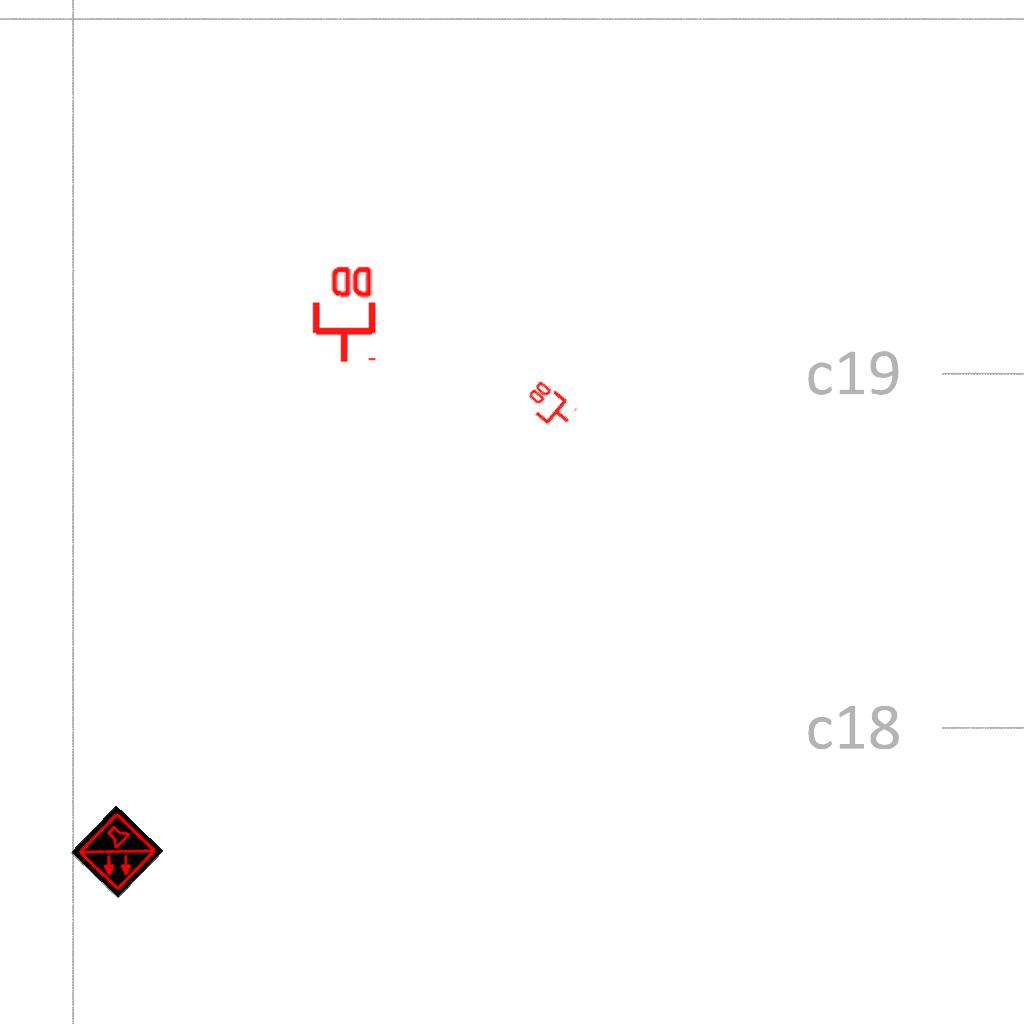Datenanschluss_zweifach: (308, 262, 377, 365), (518, 377, 580, 436)
OKW_Multisensormelder_(Kombination_optischer_Rauch-Kahlenmonoxid_Waerme-Melder): (70, 805, 164, 899)
